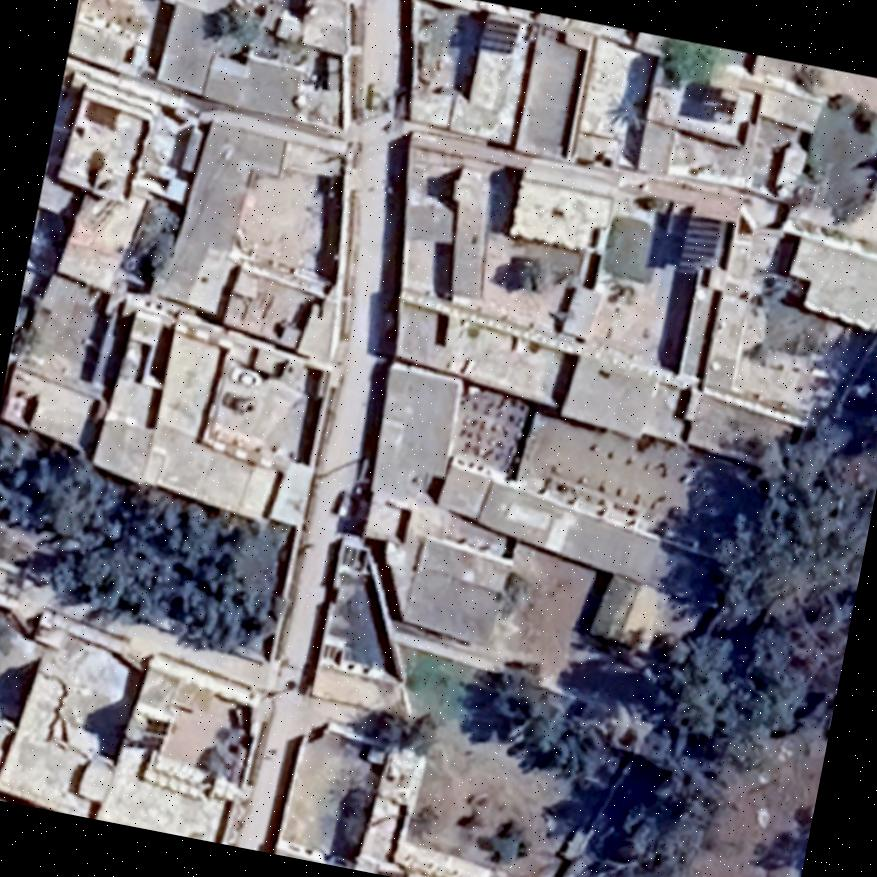Solarpanel: (669, 205, 727, 280), (471, 7, 524, 61)
